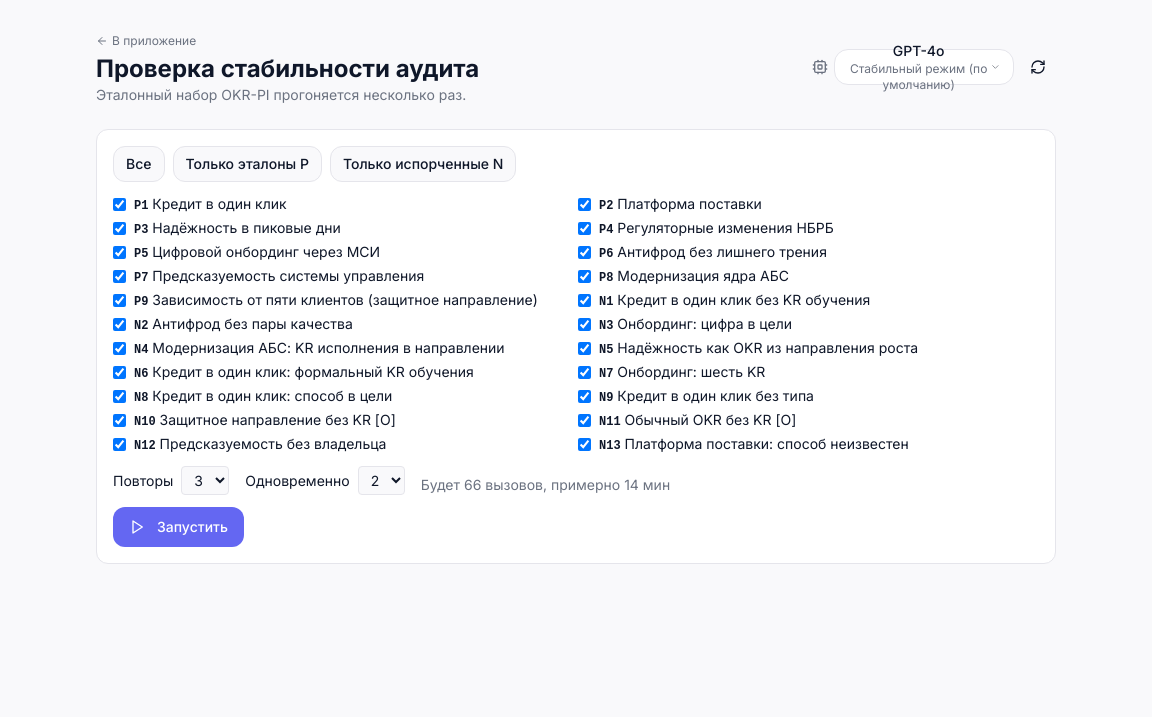
Test case: Страница проверки стабильности › после мок-прогона видны итоговые проценты и таблица случаев
This screenshot has width=1152, height=717.
Click the button "Только эталоны P": [247, 164] box [172,146,322,182]
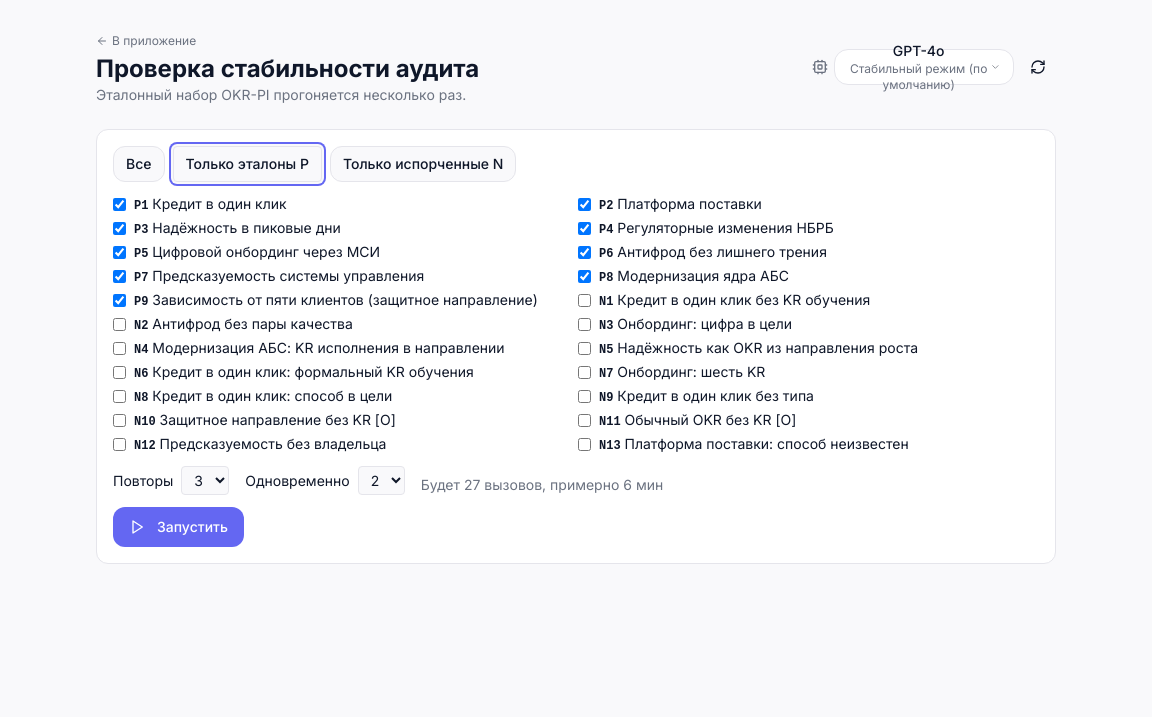
Select "1" in the dropdown labelled "Повторы": [205, 480] box [181,466,229,495]
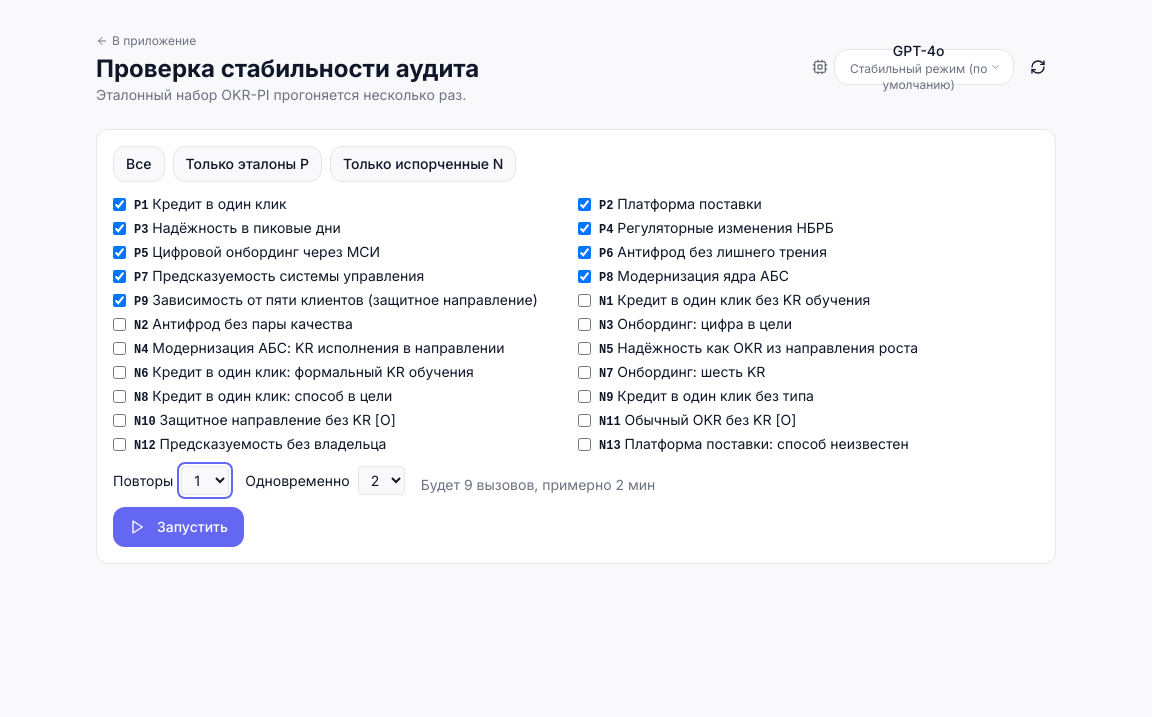
Click the button "Запустить": [178, 527] box [113,507,244,547]
(page scrolled)
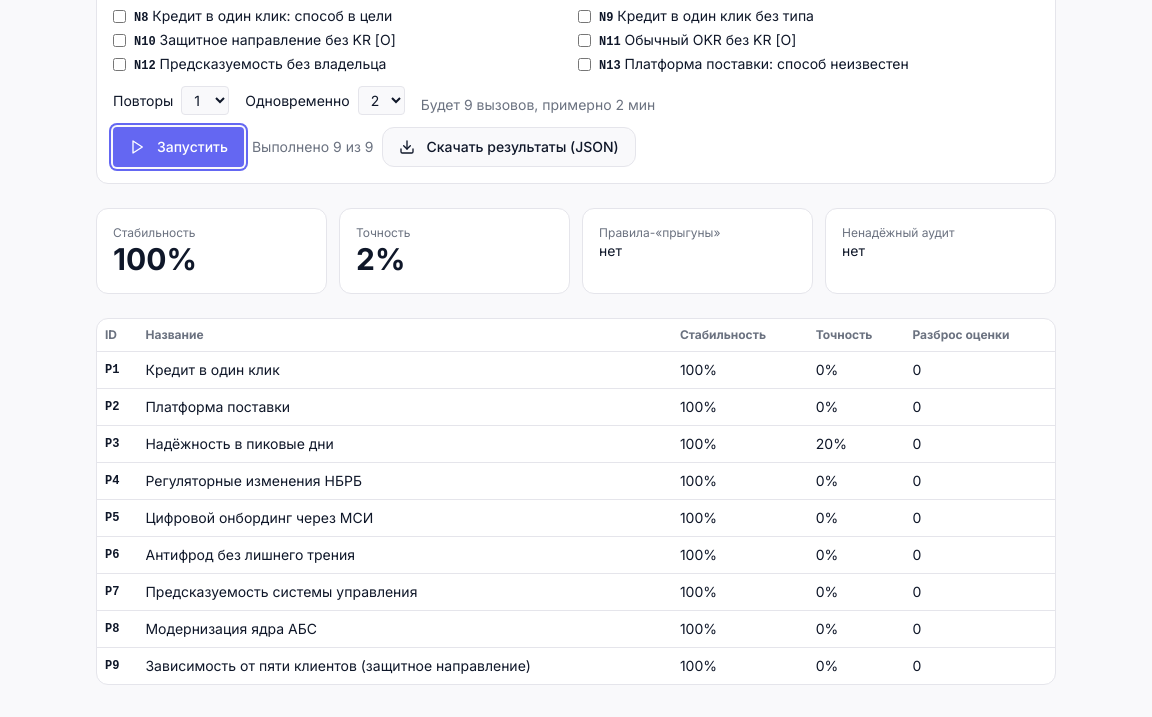
Result: the text with test id "sum-stability" reads "100%" at [113,241,197,277]
Result: the text with test id "sum-accuracy" shows "%" at [356,241,405,277]
Result: the table with test id "cases-table" is shown at [97,319,1055,684]
